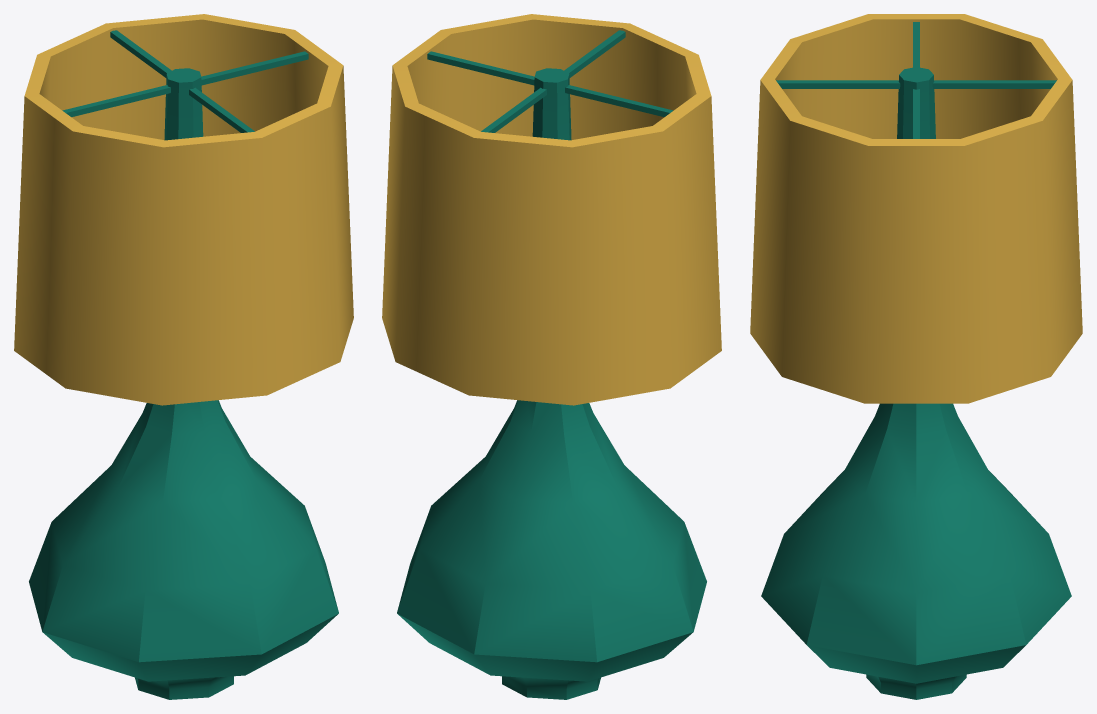
Rendered from lamp_c.glb.
3 renders of one model, left to right at view 1: azimuth 30°, elevation 25°; view 2: azimuth 150°, elevation 25°; view 3: azimuth 270°, elevation 25°, orthographic.
Parts seen in each view (by area): view 1: body; view 2: body; view 3: body.
Boxes of the visible parts, x1,y1,x2,y2 form: body: (14,14,353,699); body: (382,14,721,699); body: (750,14,1082,699).
Bounding box in the file's own units: 0.26 × 0.52 × 0.26.
